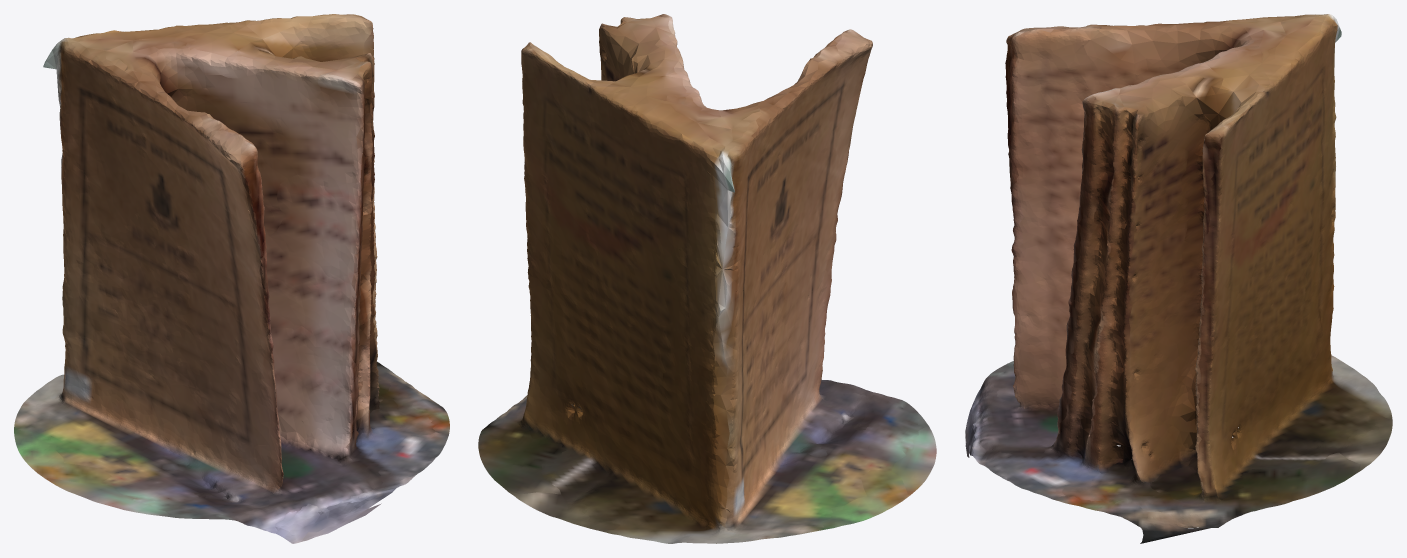
Rendered from 35_Victoria_V1 (I'm not sure which version is better, you all can decide).glb.
3 renders of one model, left to right at view 1: azimuth 30°, elevation 25°; view 2: azimuth 150°, elevation 25°; view 3: azimuth 270°, elevation 25°, orthographic. The views are drawn at different scales.
Visible parts, largest first — view 1: mesh; view 2: mesh; view 3: mesh.
Part boxes in pixels (x1,y1,x2,y2): mesh: (14,14,449,543); mesh: (478,14,936,543); mesh: (965,14,1392,543).
Size of the model in its own units: 0.2279 by 0.2248 by 0.2195.
1 material, 1 textured.
